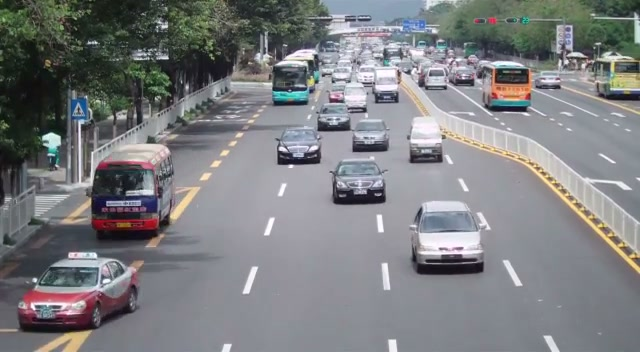bus: (89, 143, 176, 239), (480, 61, 533, 112), (592, 56, 640, 99), (271, 60, 311, 105), (284, 49, 321, 87)
car: (17, 253, 142, 332), (408, 200, 490, 274), (329, 157, 388, 204), (276, 127, 323, 164), (407, 116, 444, 163), (351, 118, 390, 152), (317, 103, 351, 130), (344, 83, 367, 112), (423, 66, 449, 90), (450, 66, 476, 86), (534, 73, 562, 89)
truck: (372, 67, 400, 103)
